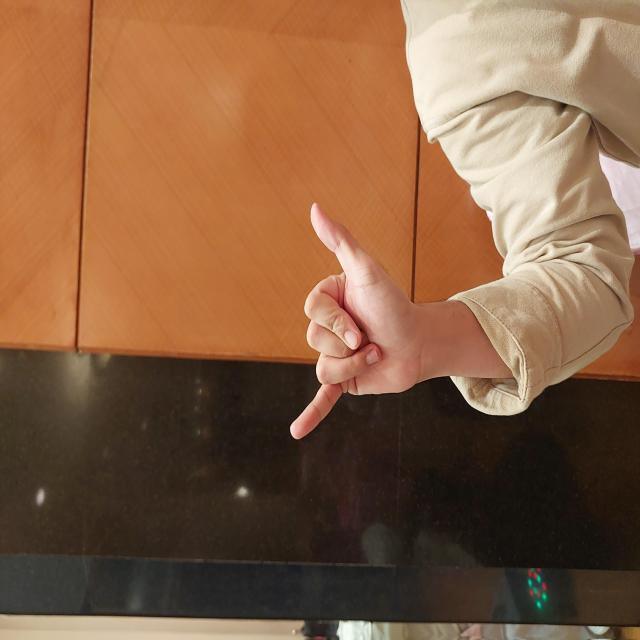Y: (197, 288, 442, 420)
